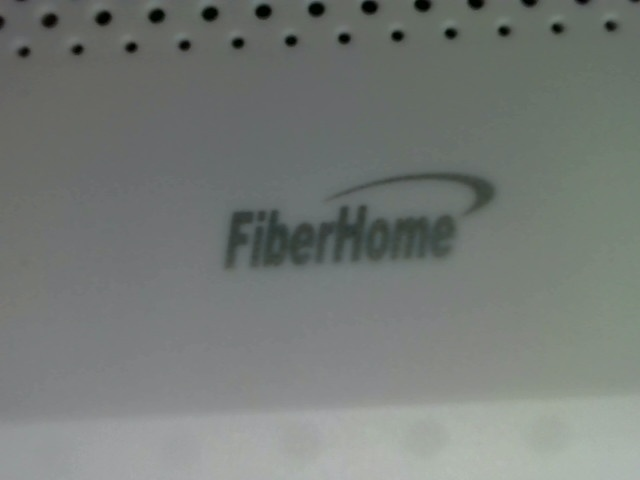AI_FiberHome: (209, 160, 506, 277)
